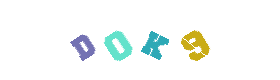0: (95, 0, 175, 80)
9: (155, 0, 235, 80)
D: (43, 0, 123, 80)
K: (99, 0, 179, 80)
